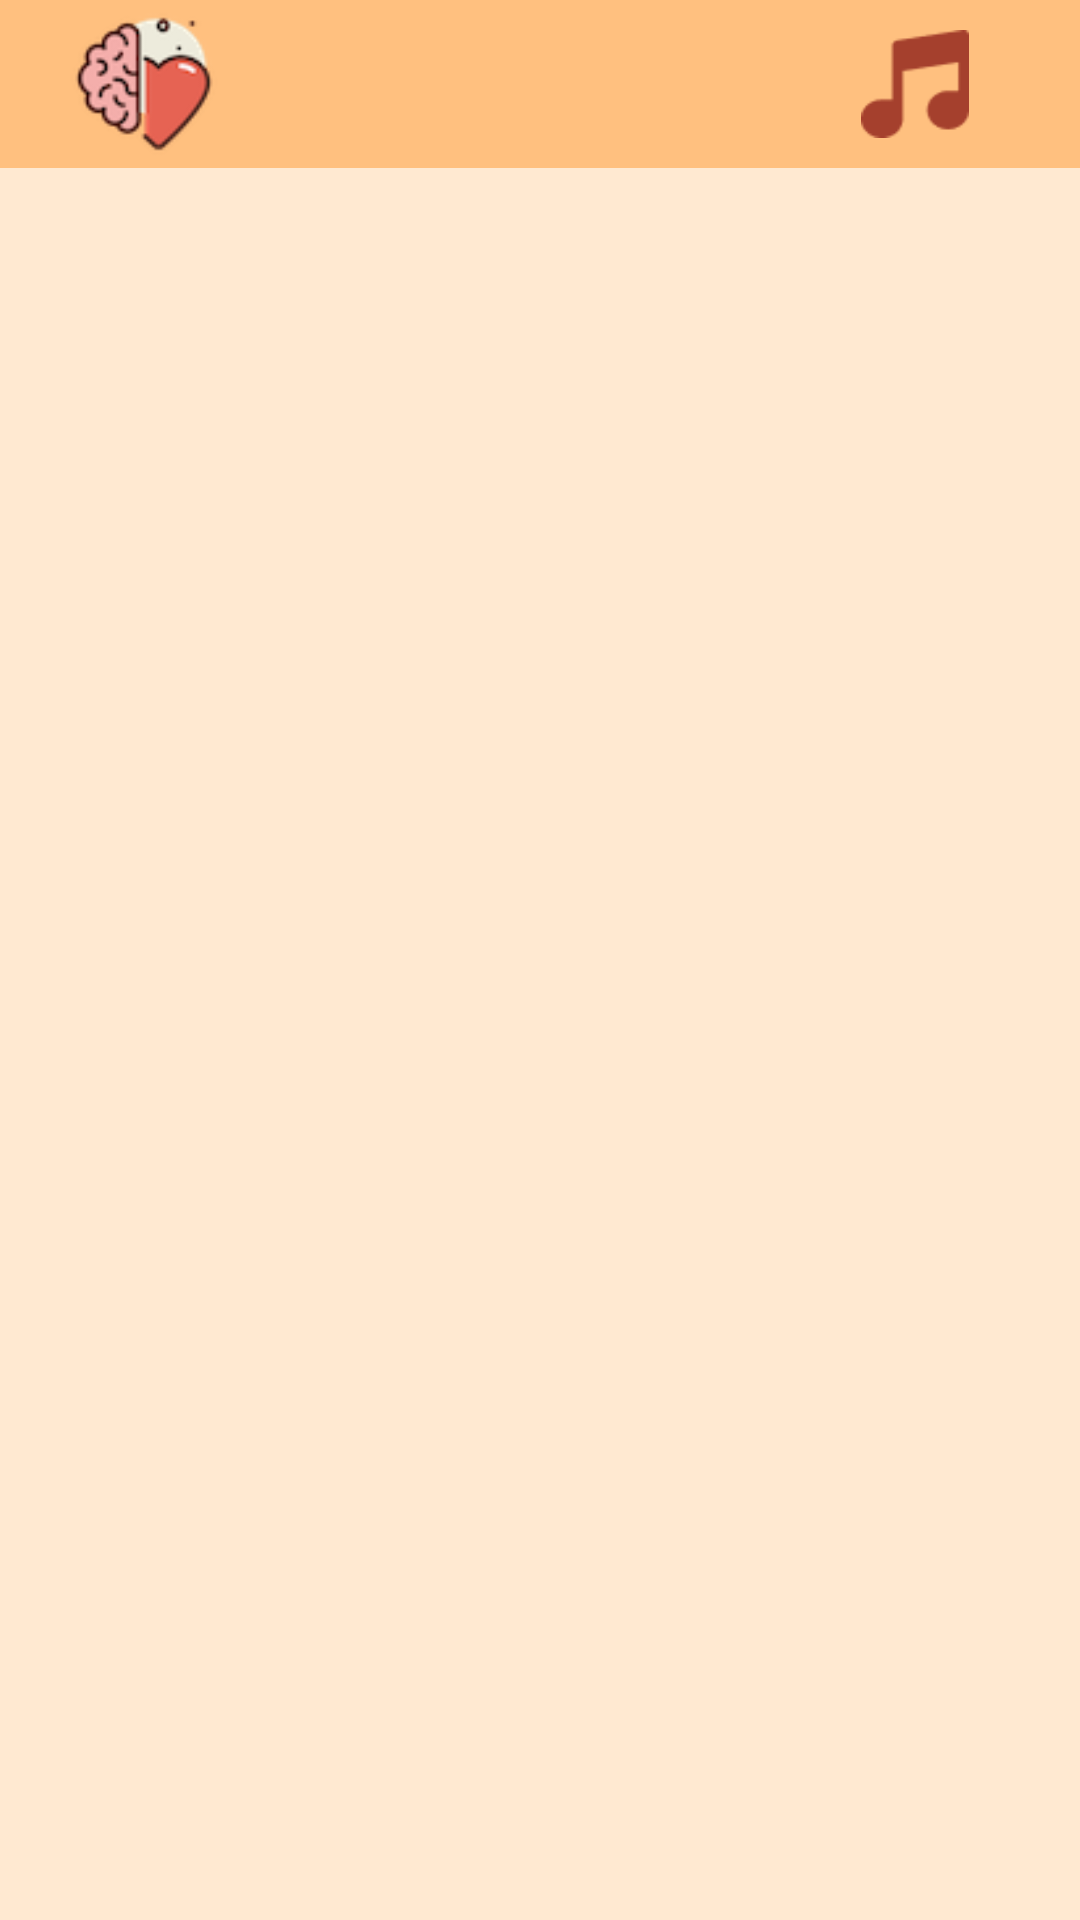

Icons on this 1080px×1920px Android screen, each with the point to tap as [x,y]:
music: [915,84]
